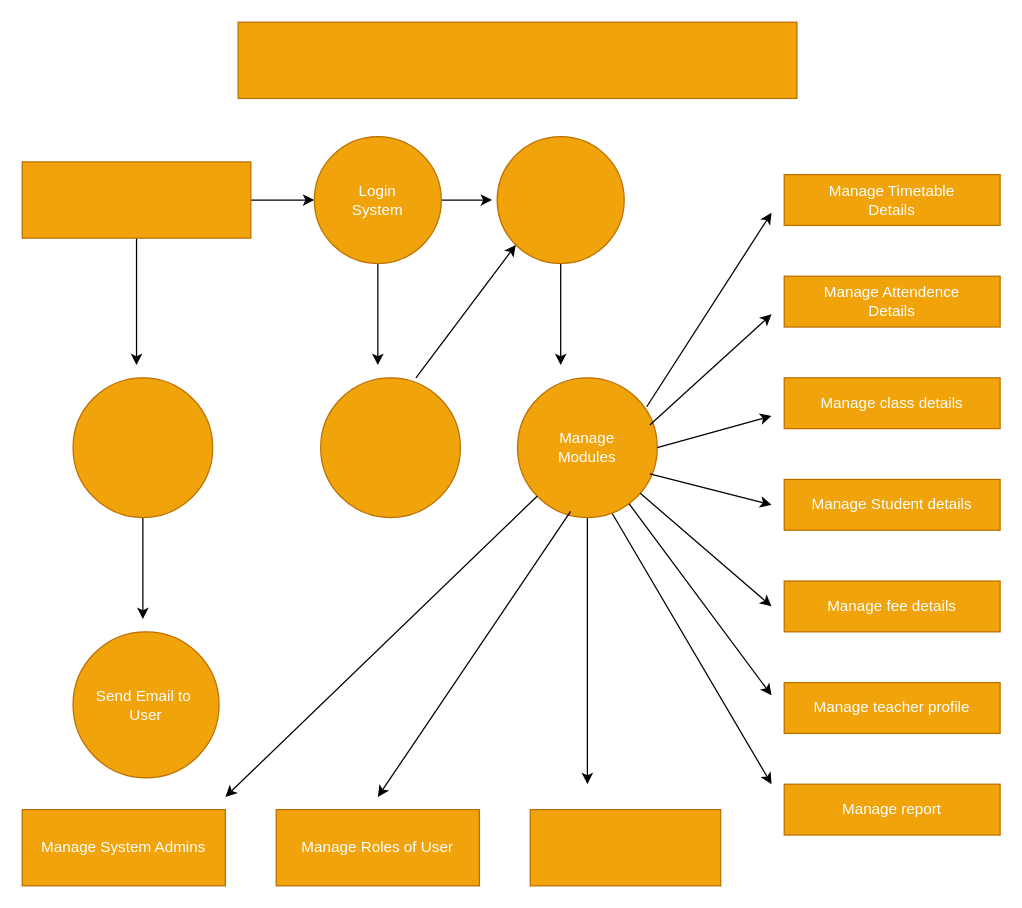
This 1022x908 diagram has some shape labels left out. The box of each missing label's shape, as (x1, y1, x2, y2) in pixels:
Admin: (21, 161, 251, 238)
Check Credientials: (319, 377, 460, 518)
Check Roles of Access: (496, 135, 624, 264)
Forgot password: (72, 377, 213, 518)
Manage user permission: (529, 808, 721, 886)
Student Information System: (237, 21, 797, 98)
